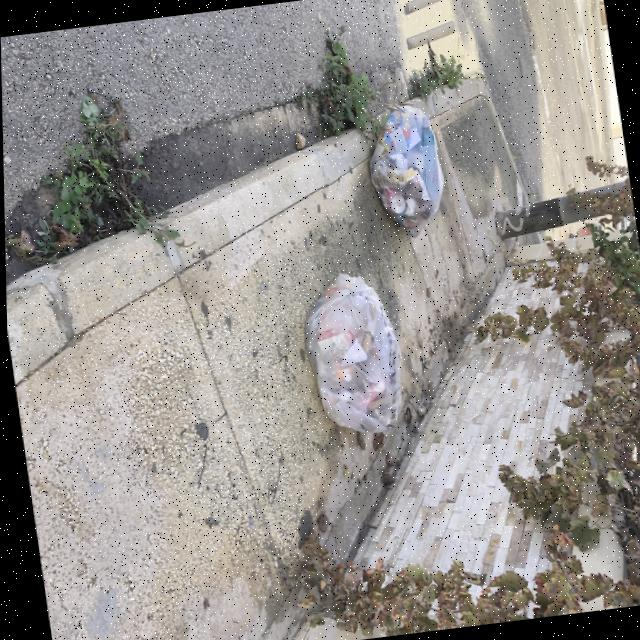Recycled Waste -Grey or Green Bag-: (294, 270, 410, 440), (359, 102, 451, 244)
